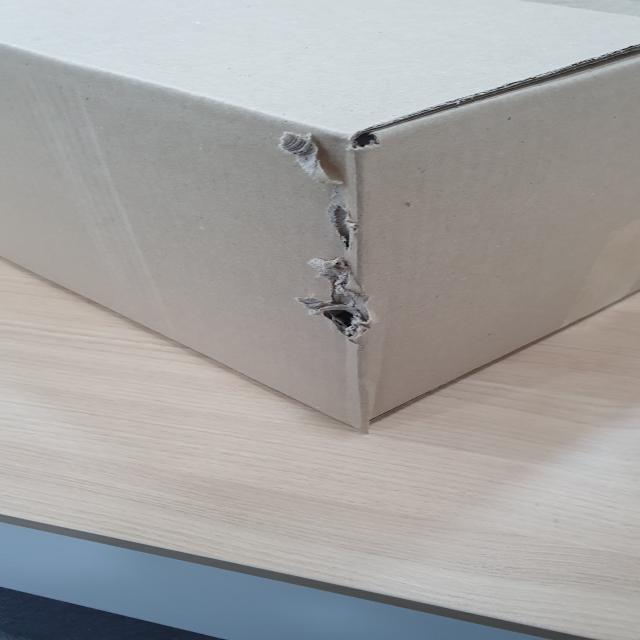hole: (312, 148, 367, 343)
